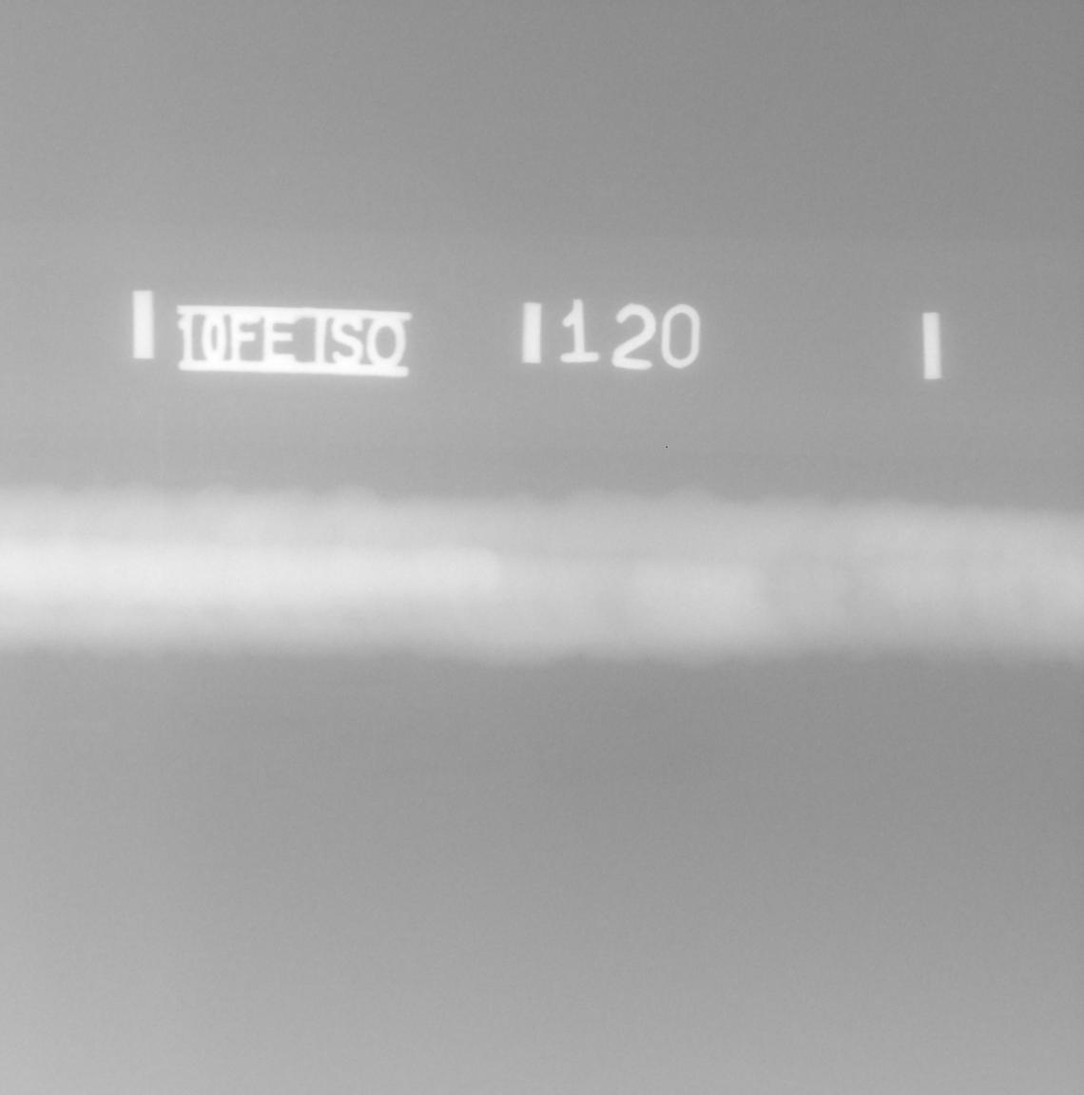Pore/Porosity: (470, 586, 476, 590)
